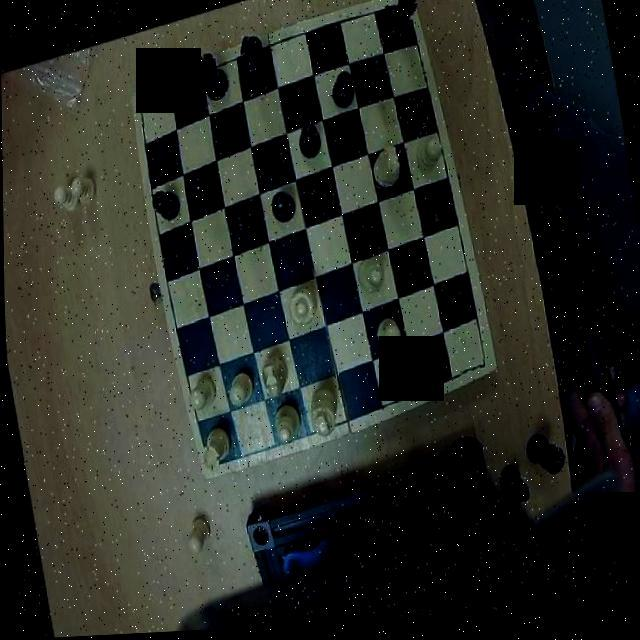chess-table-corners: (456, 346, 492, 384), (198, 442, 232, 478), (383, 0, 416, 31), (132, 86, 160, 120)
